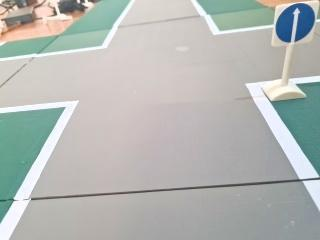straight: (270, 0, 320, 48)
